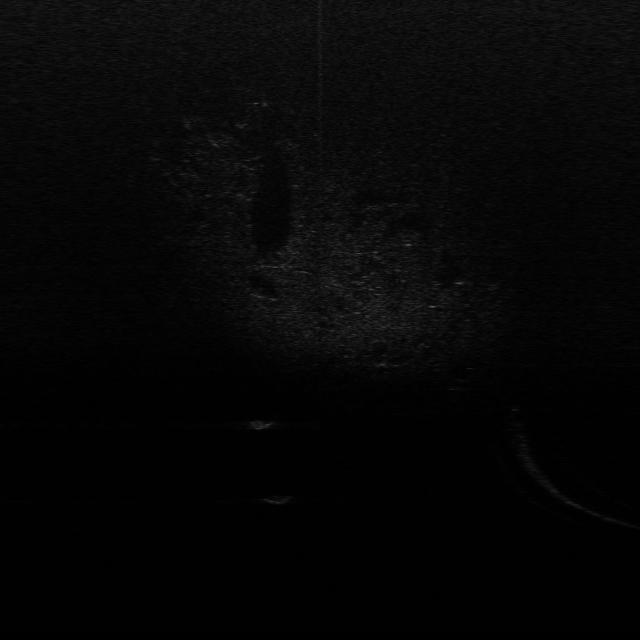cube: (260, 493, 296, 505)
square cage: (242, 416, 278, 432)
